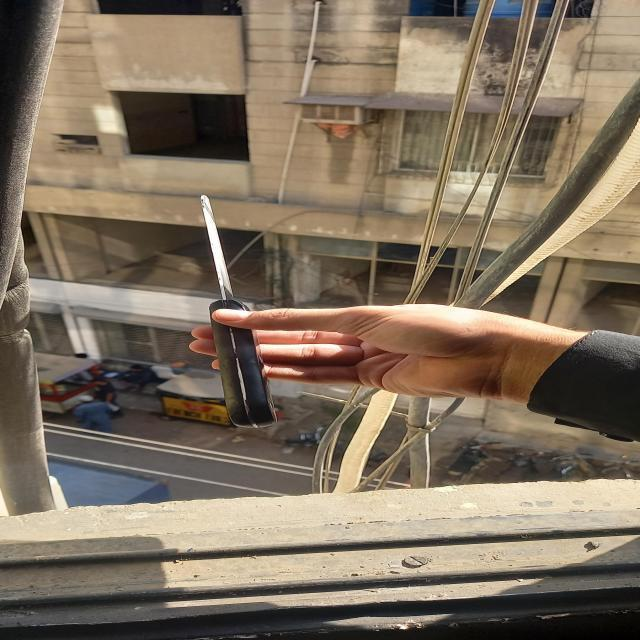faca: (202, 196, 280, 427)
